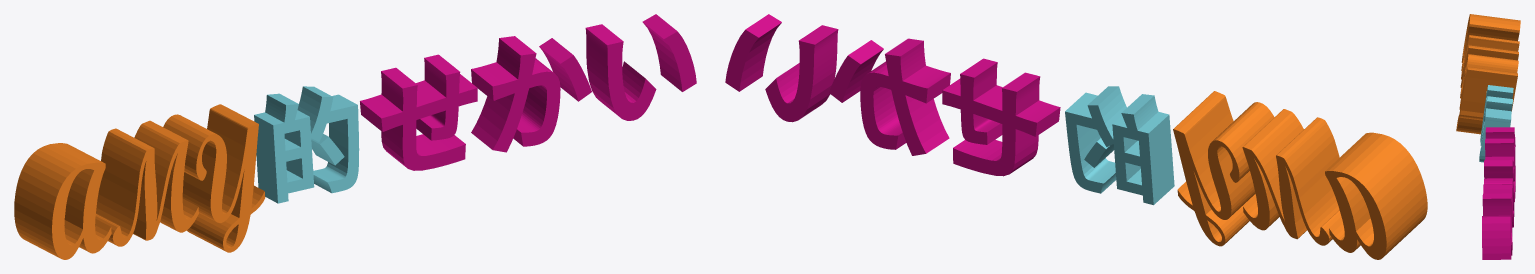
The model's file is amysworld.obj.
3 views of the same model, side by side, from view 1: azimuth 30°, elevation 25°; view 2: azimuth 150°, elevation 25°; view 3: azimuth 270°, elevation 25° (orthographic). The views are drawn at different scales.
Visible parts, largest first — view 1: tinker:group_0__1024097505 amy_sworld, amy_sworld tinker:group_0__1026094196, amy_sworld tinker:group_0__1032466725; view 2: tinker:group_0__1024097505 amy_sworld, amy_sworld tinker:group_0__1026094196, amy_sworld tinker:group_0__1032466725; view 3: tinker:group_0__1024097505 amy_sworld, amy_sworld tinker:group_0__1026094196, amy_sworld tinker:group_0__1032466725.
Boxes of the visible parts, box(x1,y1,x2,y2) form: tinker:group_0__1024097505 amy_sworld: box(14, 104, 265, 259); amy_sworld tinker:group_0__1026094196: box(360, 14, 696, 170); amy_sworld tinker:group_0__1032466725: box(254, 86, 359, 203); tinker:group_0__1024097505 amy_sworld: box(1173, 91, 1427, 259); amy_sworld tinker:group_0__1026094196: box(725, 14, 1060, 176); amy_sworld tinker:group_0__1032466725: box(1065, 86, 1174, 205); tinker:group_0__1024097505 amy_sworld: box(1456, 14, 1520, 134); amy_sworld tinker:group_0__1026094196: box(1482, 127, 1515, 259); amy_sworld tinker:group_0__1032466725: box(1479, 85, 1513, 162).
Bounding box in the file's own units: 189 × 33.76 × 24.88.
